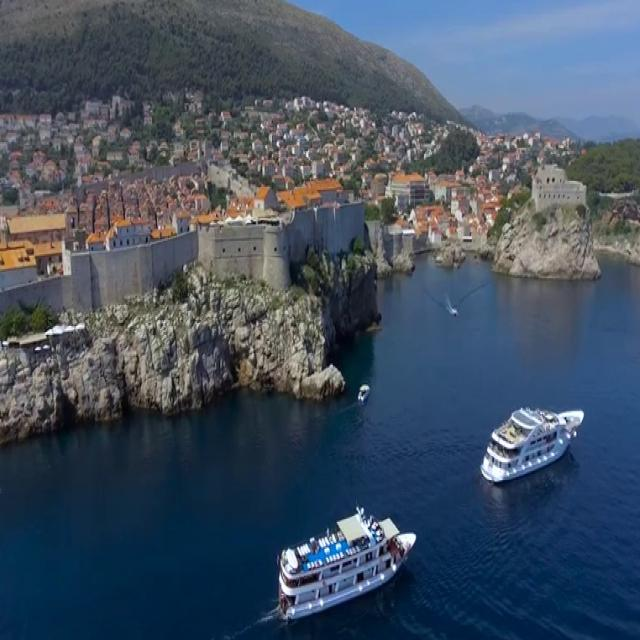houseboat: (358, 381, 374, 403), (449, 304, 459, 316)
passenger ship: (275, 511, 418, 620), (483, 404, 585, 485)
